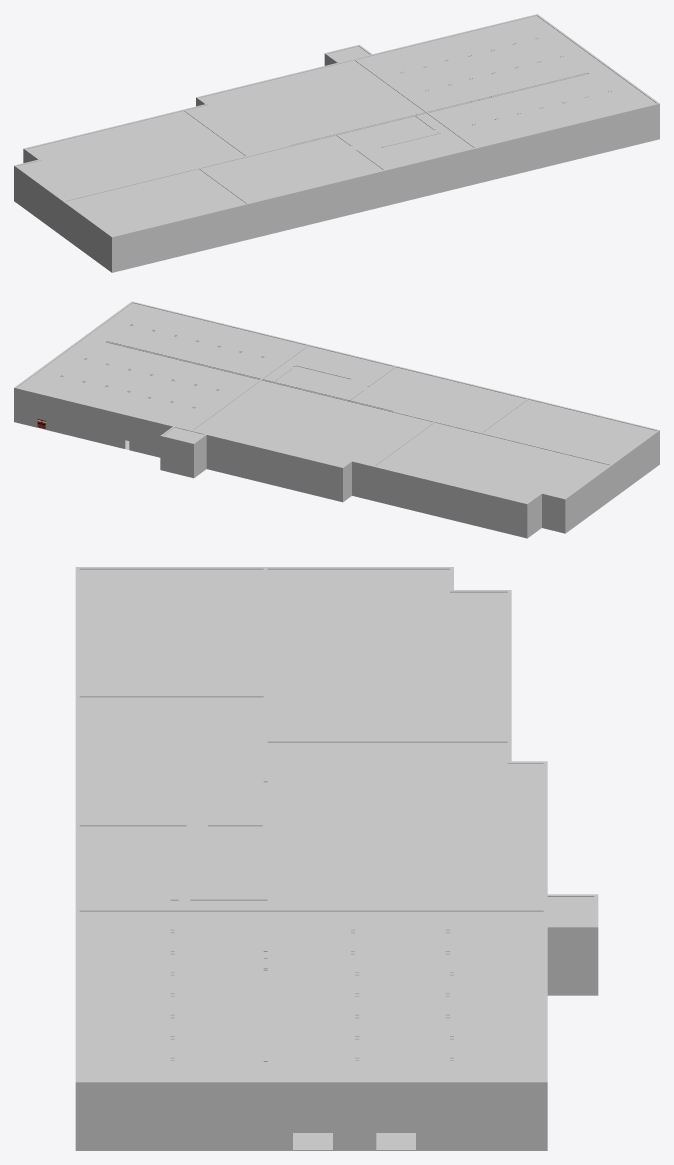
File: LaPlateforme.fbx
The picture shows the model from 3 angles, top to bottom: view 1: azimuth 30°, elevation 25°; view 2: azimuth 150°, elevation 25°; view 3: azimuth 270°, elevation 25°; orthographic projection. The views are drawn at different scales.
Visible parts, largest first — view 1: Roof, Walls2, Walls, CABARET, PLAZA, SALLE DES SUCRES; view 2: Roof, PLAZA, Walls, SALLE DES SUCRES, CABARET, Walls2; view 3: Roof, Walls, SALLE DES SUCRES, PLAZA, Walls2, CABARET, Floor.
Boxes of the visible parts, bbox=[...] form: Roof: bbox=[17, 15, 658, 236]; Walls2: bbox=[249, 115, 475, 239]; Walls: bbox=[324, 14, 659, 183]; CABARET: bbox=[62, 168, 248, 272]; PLAZA: bbox=[14, 109, 246, 235]; SALLE DES SUCRES: bbox=[183, 58, 427, 156]; Roof: bbox=[17, 303, 656, 502]; PLAZA: bbox=[373, 421, 611, 538]; Walls: bbox=[14, 301, 309, 478]; SALLE DES SUCRES: bbox=[190, 379, 435, 502]; CABARET: bbox=[482, 398, 659, 499]; Walls2: bbox=[272, 345, 526, 400]; Roof: bbox=[77, 569, 594, 1083]; Walls: bbox=[75, 894, 598, 1150]; SALLE DES SUCRES: bbox=[263, 740, 547, 911]; PLAZA: bbox=[263, 567, 511, 740]; Walls2: bbox=[75, 696, 263, 908]; CABARET: bbox=[75, 567, 268, 695]; Floor: bbox=[75, 1133, 415, 1150].
Bounding box in the file's own units: 122 × 7.6 × 52.47.
3 materials, 1 textured.
